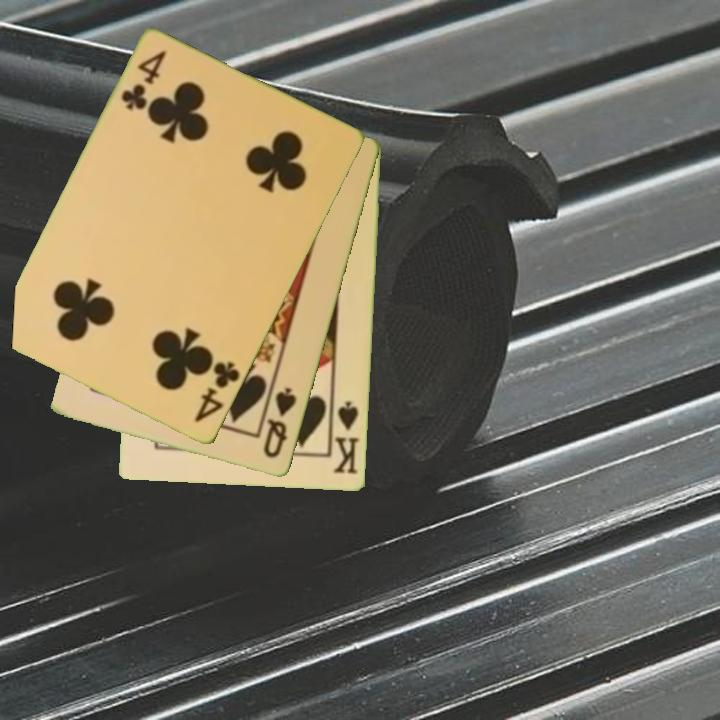4c: (191, 358, 244, 426), (117, 47, 170, 114)
Ks: (328, 397, 362, 477)
Qs: (260, 384, 300, 462)
